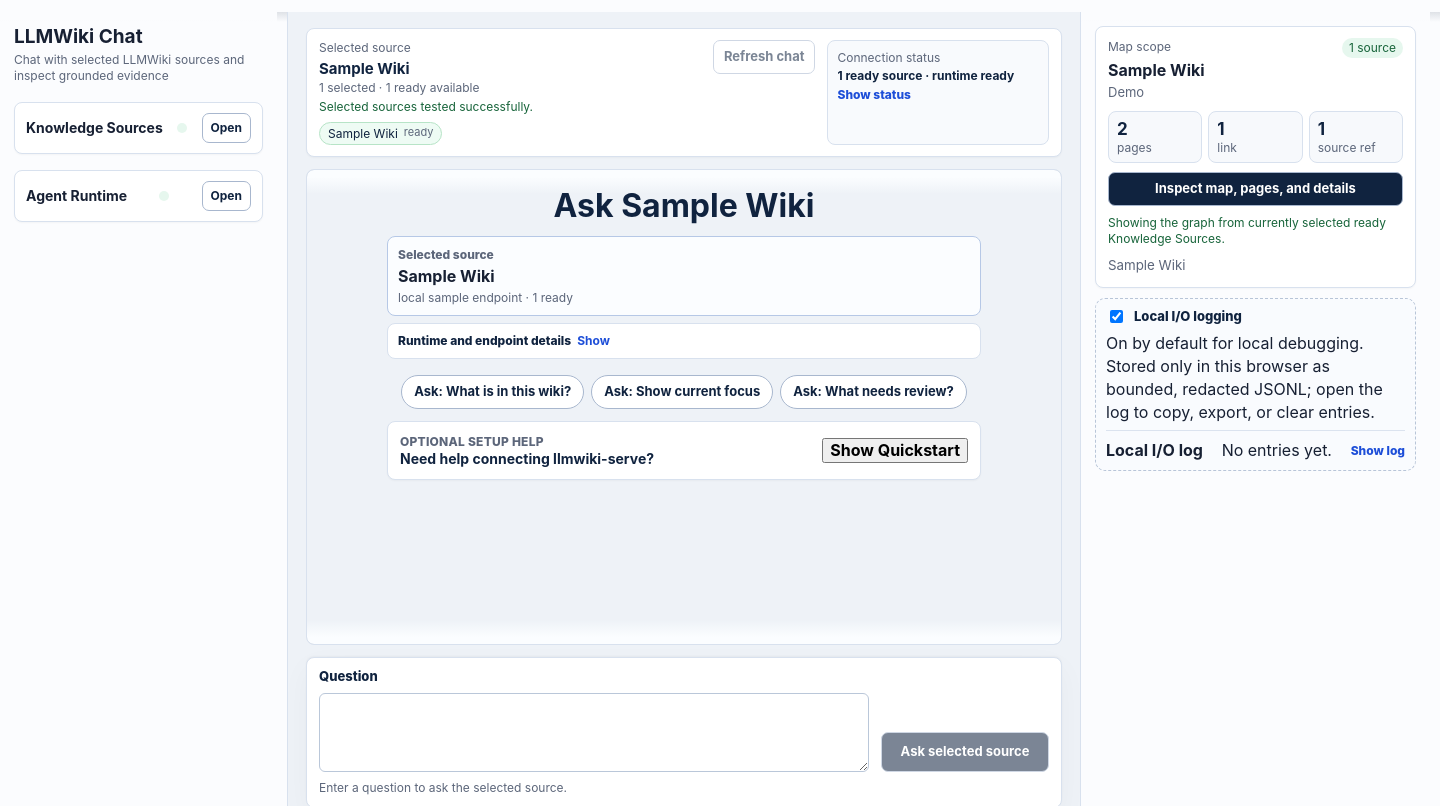
Test: LLMWiki Chat › does not render selected page markdown html or images
Expected: the text "Sample Wiki" in the row of "Connection status" is shown, [319,59,410,78]
Click the button "Inspect map, pages, and details". click: (1256, 189)
box: [1108,172,1403,206]
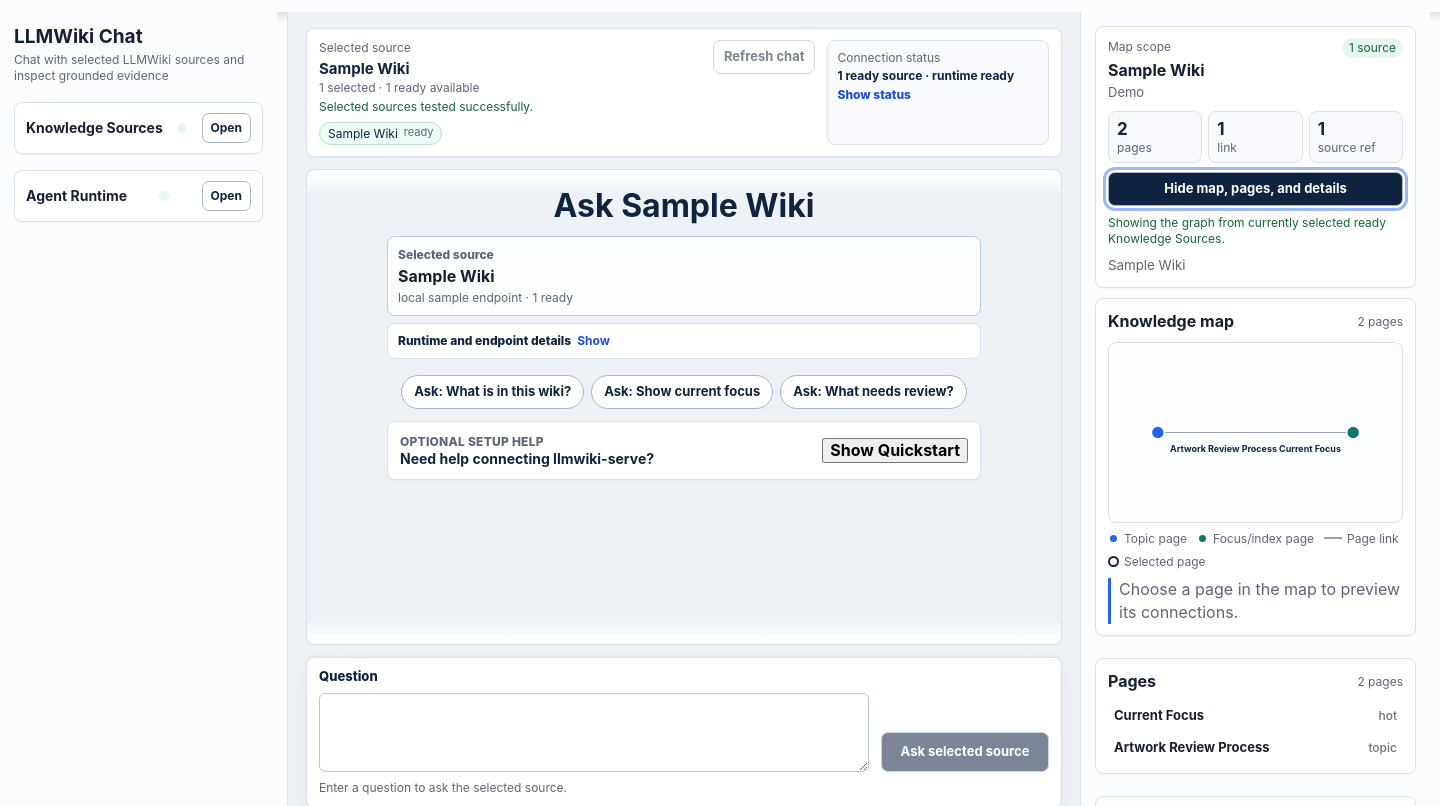
Expected: the element named "Graph" is shown, [1095,298,1416,636]
Expected: the element "Pages" is shown, [1095,658,1416,774]
Click the button "Current Focus hot". click: (1159, 715)
box: [1108,702,1403,730]
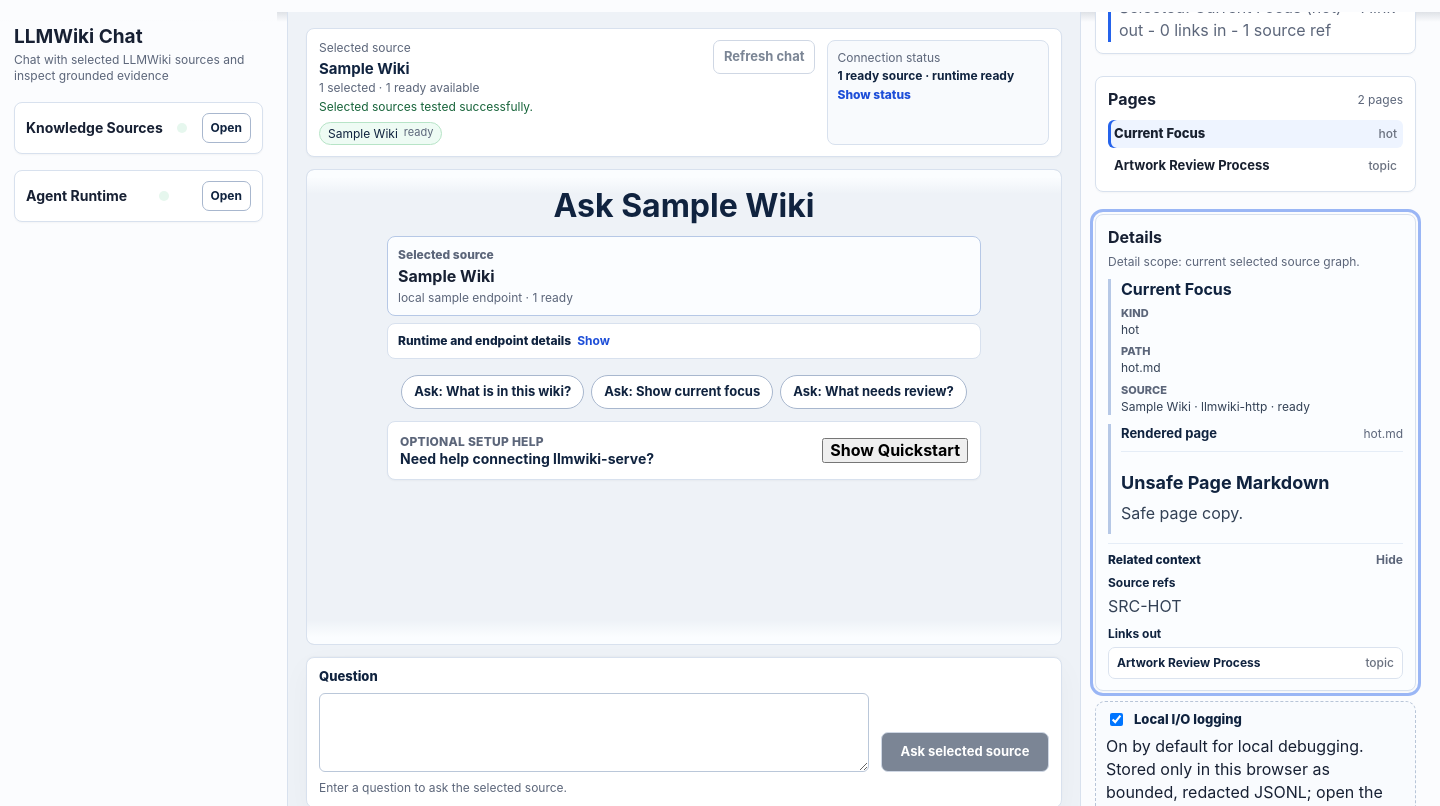
Expected: the heading "Unsafe Page Markdown" is shown, [1121,472,1329,493]
Expected: the text "Safe page copy." is shown, [1121,503,1243,523]
